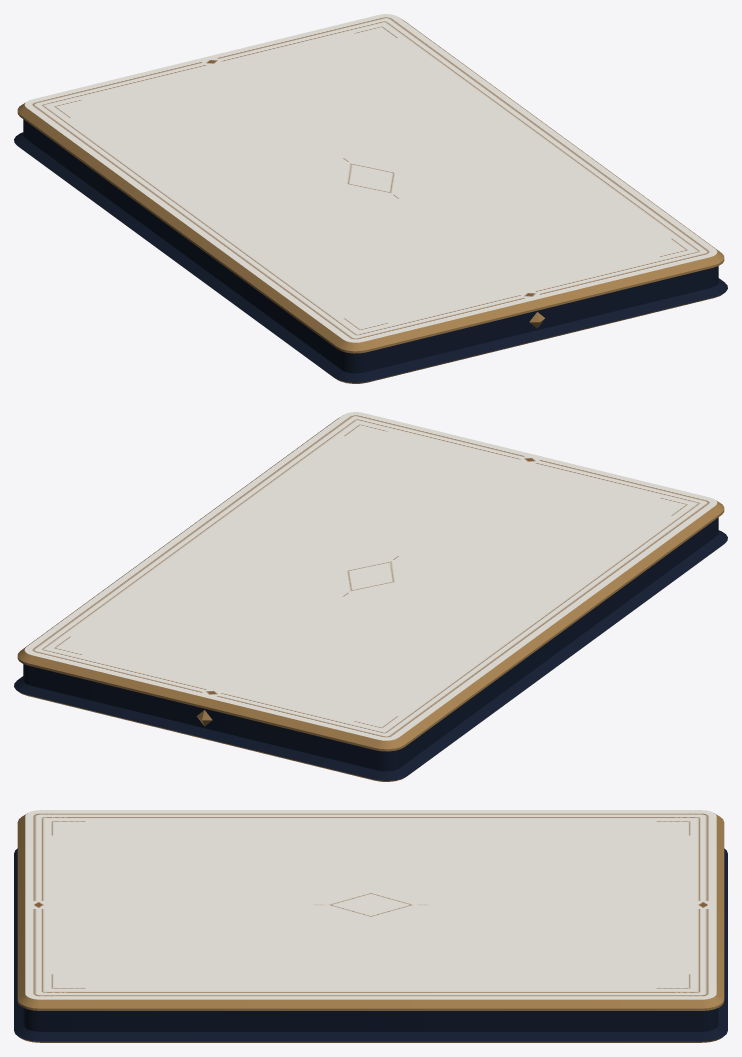
3 views of the same model, one above another, from view 1: azimuth 30°, elevation 25°; view 2: azimuth 150°, elevation 25°; view 3: azimuth 270°, elevation 25° (orthographic). The views are drawn at different scales.
Parts seen in each view (by area): view 1: DeckPedestal; view 2: DeckPedestal; view 3: DeckPedestal.
Boxes of the visible parts, x1,y1,x2,y2 form: DeckPedestal: (14,14,727,383); DeckPedestal: (14,412,727,781); DeckPedestal: (14,810,727,1042).
Bounding box in the file's own units: 0.0806 × 0.00896 × 0.1222.
1 material, 1 textured.
